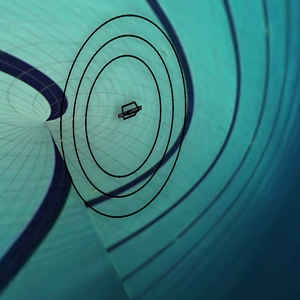circle: (47, 6, 206, 236)
submarine: (112, 96, 144, 127)
